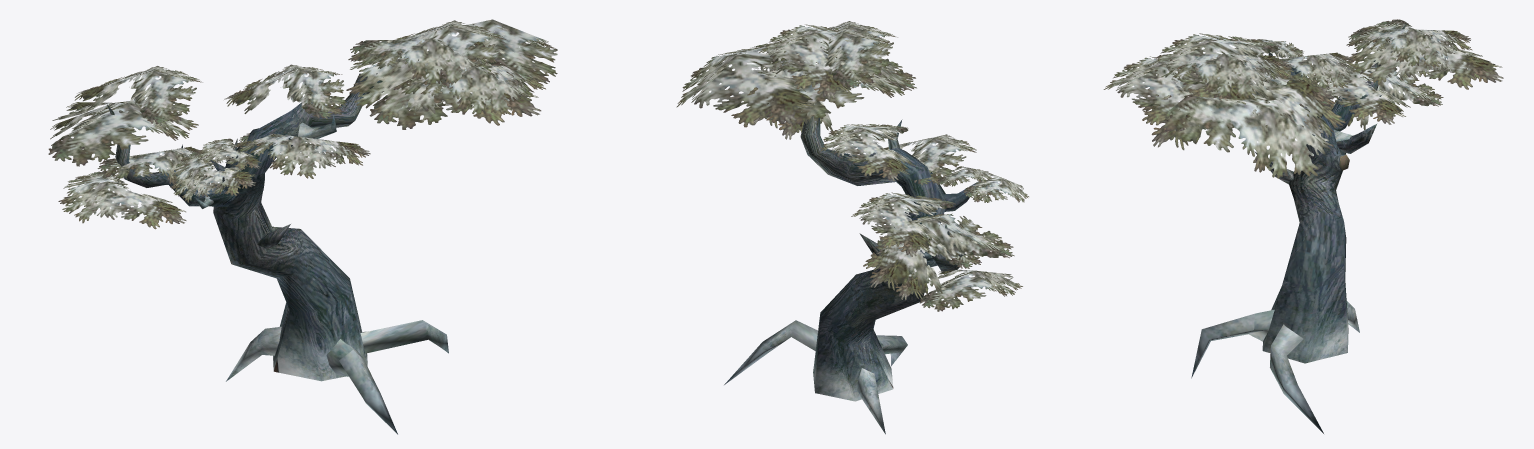
The picture shows the model from 3 angles, left to right: view 1: azimuth 30°, elevation 25°; view 2: azimuth 150°, elevation 25°; view 3: azimuth 270°, elevation 25°; orthographic projection. The views are drawn at different scales.
Parts seen in each view (by area): view 1: environment_Tree_xue_003_b, environment_Tree_xue_003_a; view 2: environment_Tree_xue_003_b, environment_Tree_xue_003_a; view 3: environment_Tree_xue_003_b, environment_Tree_xue_003_a.
Boxes of the visible parts, x1,y1,x2,y2 form: environment_Tree_xue_003_b: (48, 19, 557, 229); environment_Tree_xue_003_a: (107, 73, 448, 434); environment_Tree_xue_003_b: (676, 21, 1028, 311); environment_Tree_xue_003_a: (724, 103, 981, 434); environment_Tree_xue_003_b: (1103, 19, 1503, 178); environment_Tree_xue_003_a: (1191, 23, 1406, 433).
Size of the model in its own units: 19.64 by 14.14 by 15.99.
